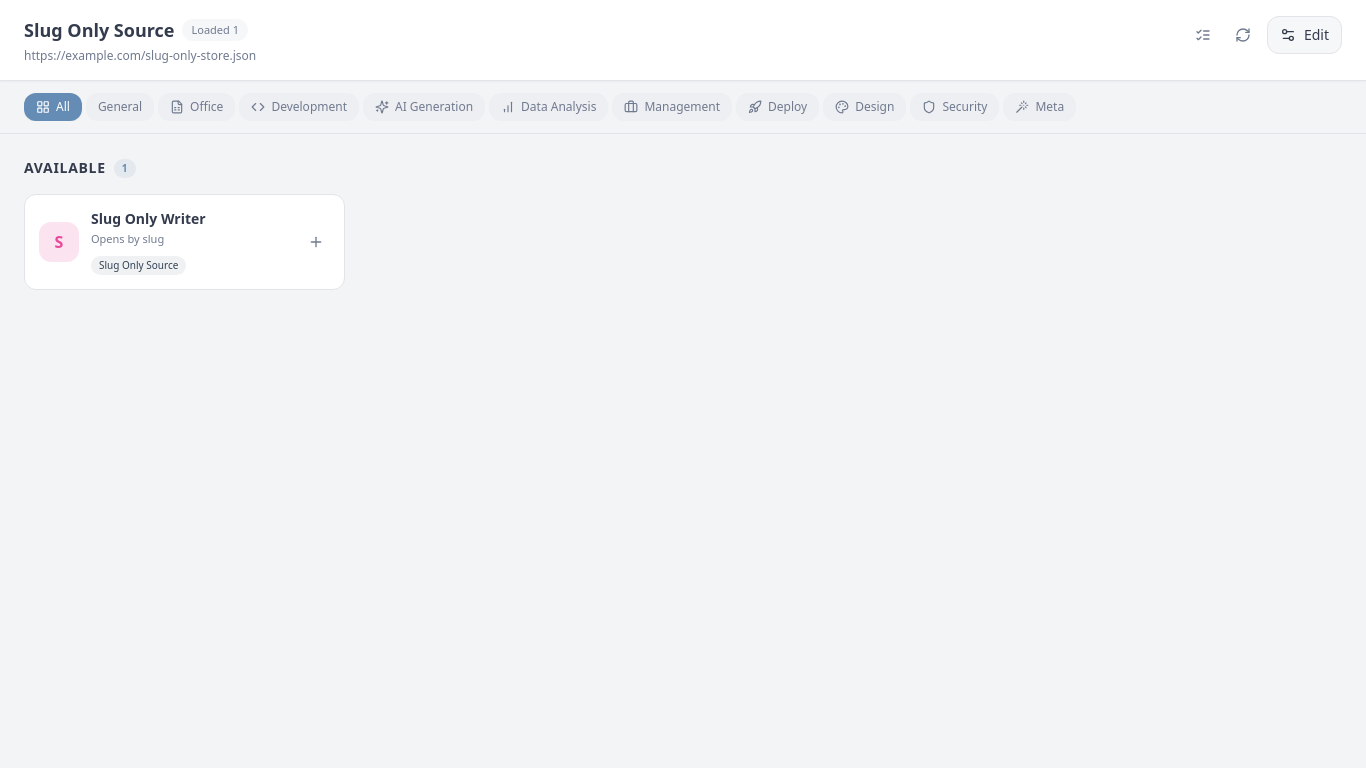
Test case: SkillStore remote loading › opens the store detail when a remote card only has a slug selection id
Click the heading "Slug Only Writer" at (148, 218), box [91,209,206,228]
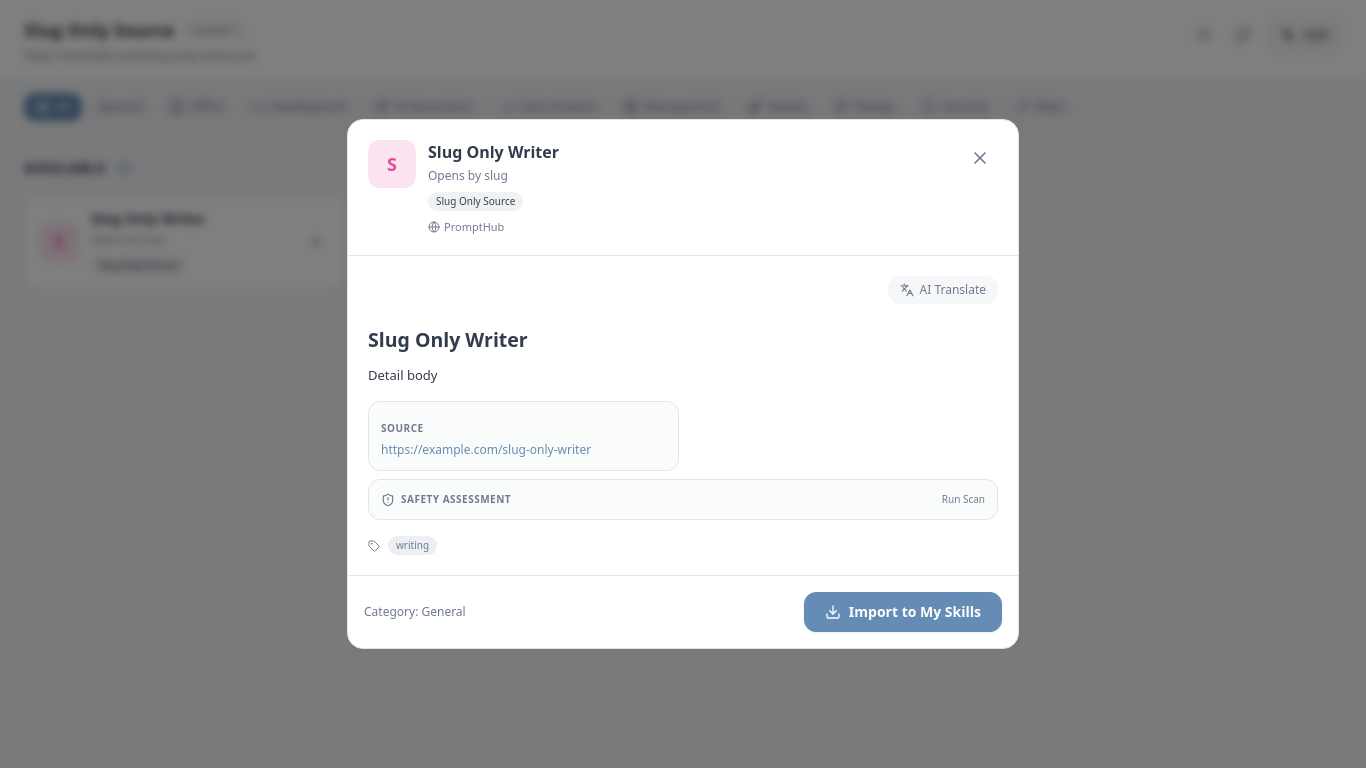
Now the text "Detail body" is shown, box [368,366,437,384]
